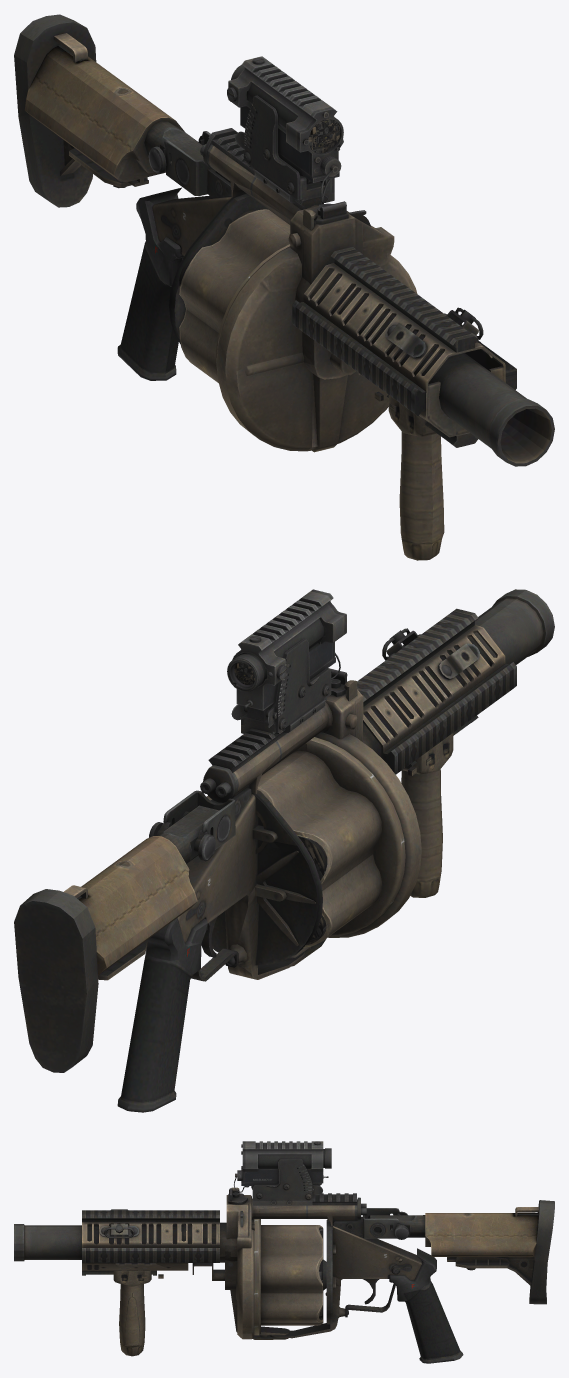
3 views of the same model, one above another, from view 1: azimuth 30°, elevation 25°; view 2: azimuth 150°, elevation 25°; view 3: azimuth 270°, elevation 25° (orthographic). The views are drawn at different scales.
Parts seen in each view (by area): view 1: cadnav.com; view 2: cadnav.com; view 3: cadnav.com.
Boxes of the visible parts, bbox=[...] form: cadnav.com: bbox=[14, 14, 554, 560]; cadnav.com: bbox=[14, 589, 554, 1112]; cadnav.com: bbox=[14, 1141, 554, 1363].
Size of the model in its own units: 56.76 by 107 by 240.
Materials: 1 (1 with a texture image).
